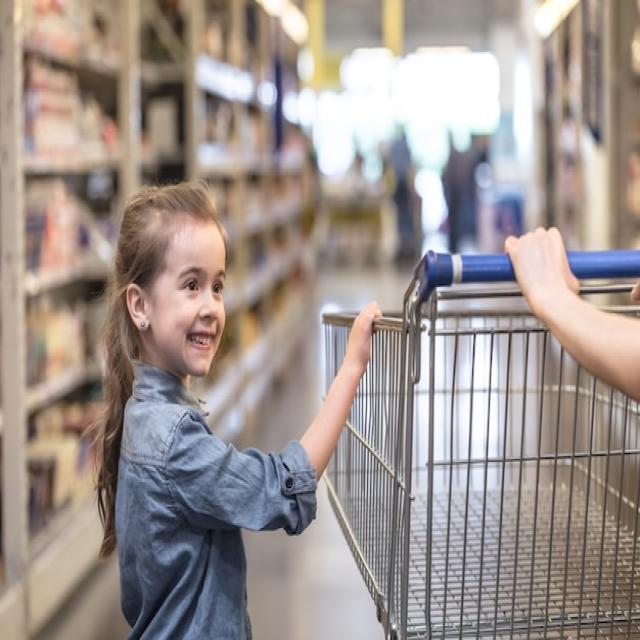Person: (97, 180, 384, 640)
